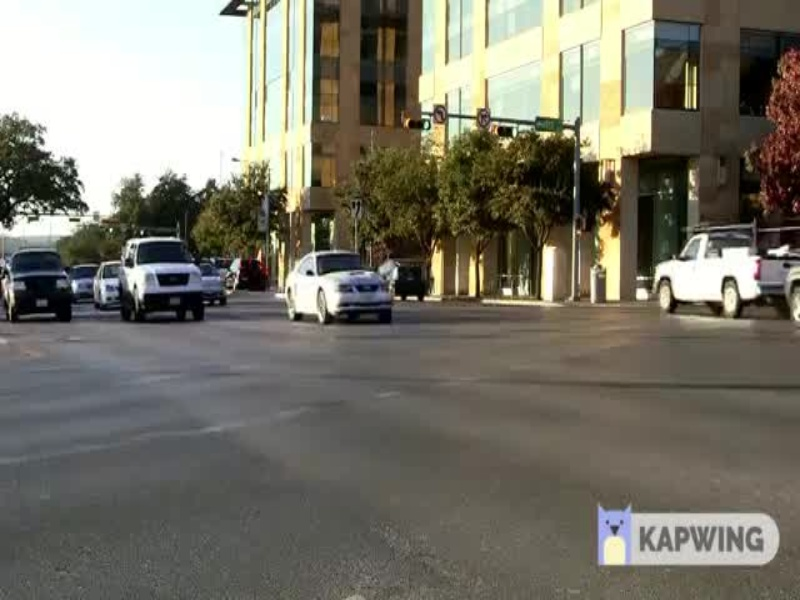car: (644, 226, 800, 318), (277, 253, 394, 332), (118, 234, 203, 324), (1, 244, 78, 324)
